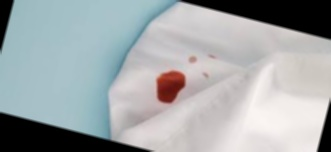blood: (150, 66, 188, 107)
